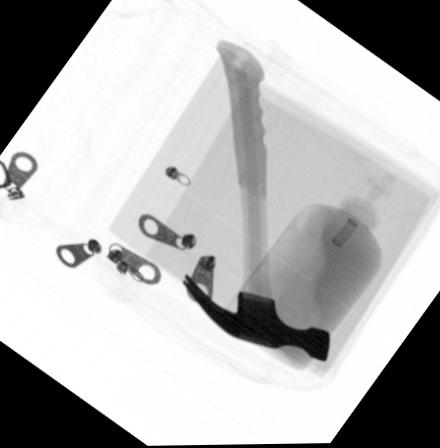Hammer: (181, 36, 330, 365)
